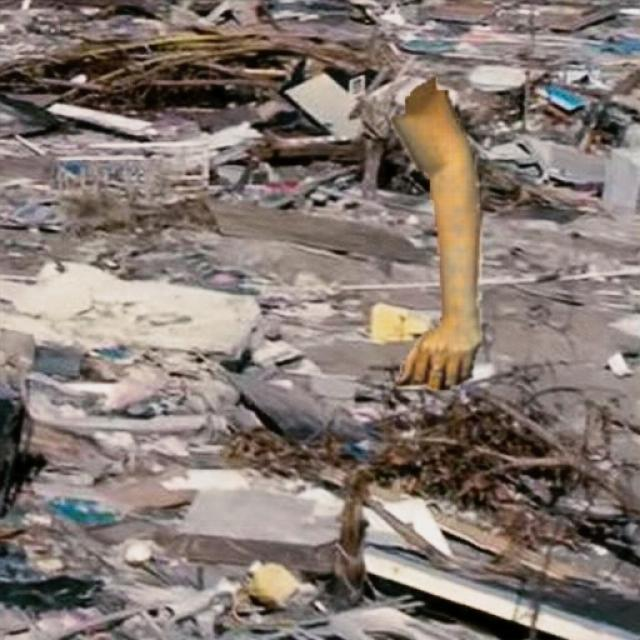Person in Rubble: (391, 78, 481, 388)
